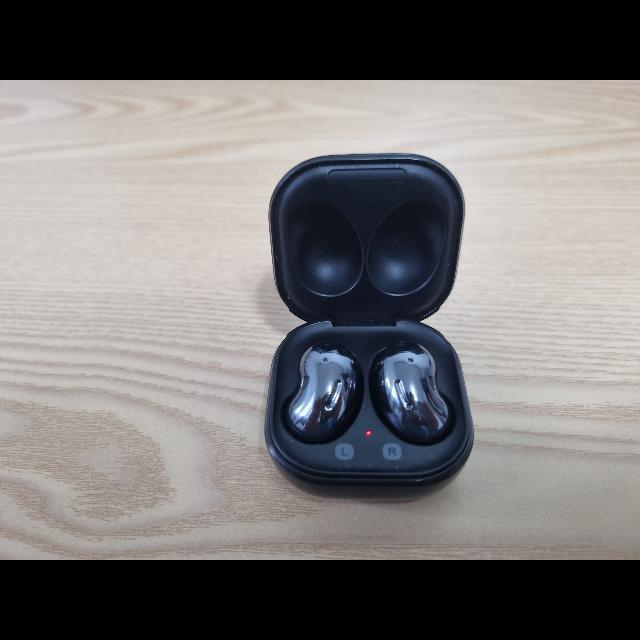buds_live: (263, 152, 475, 502)
